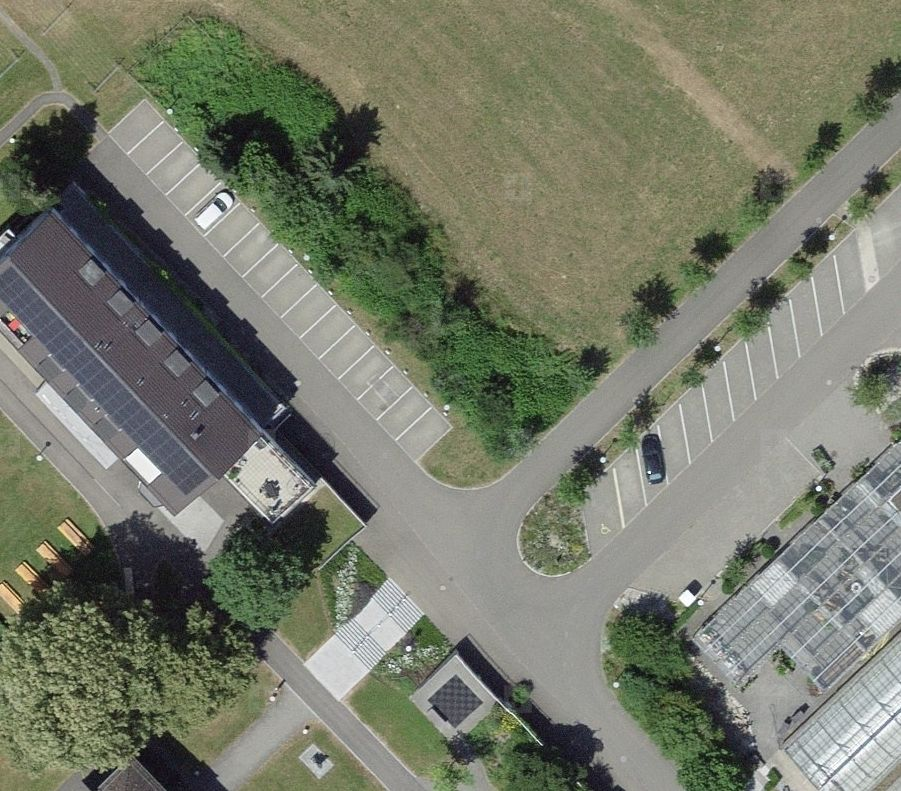solar: (1, 268, 210, 496)
